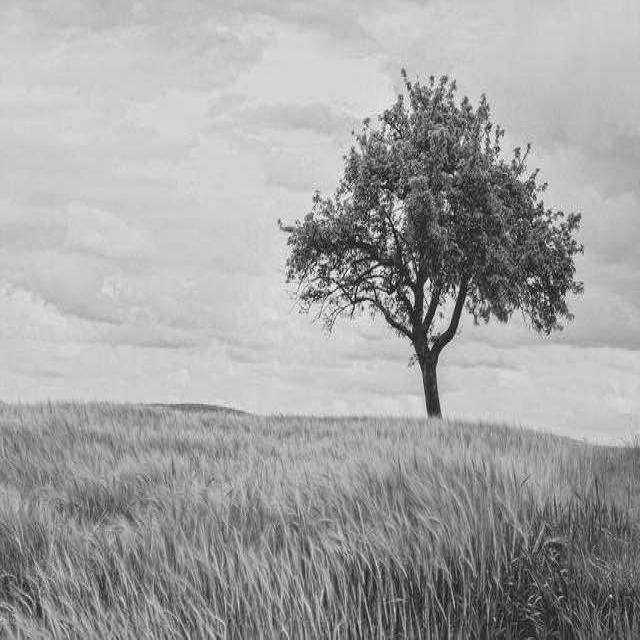Tree: (282, 72, 582, 415)
